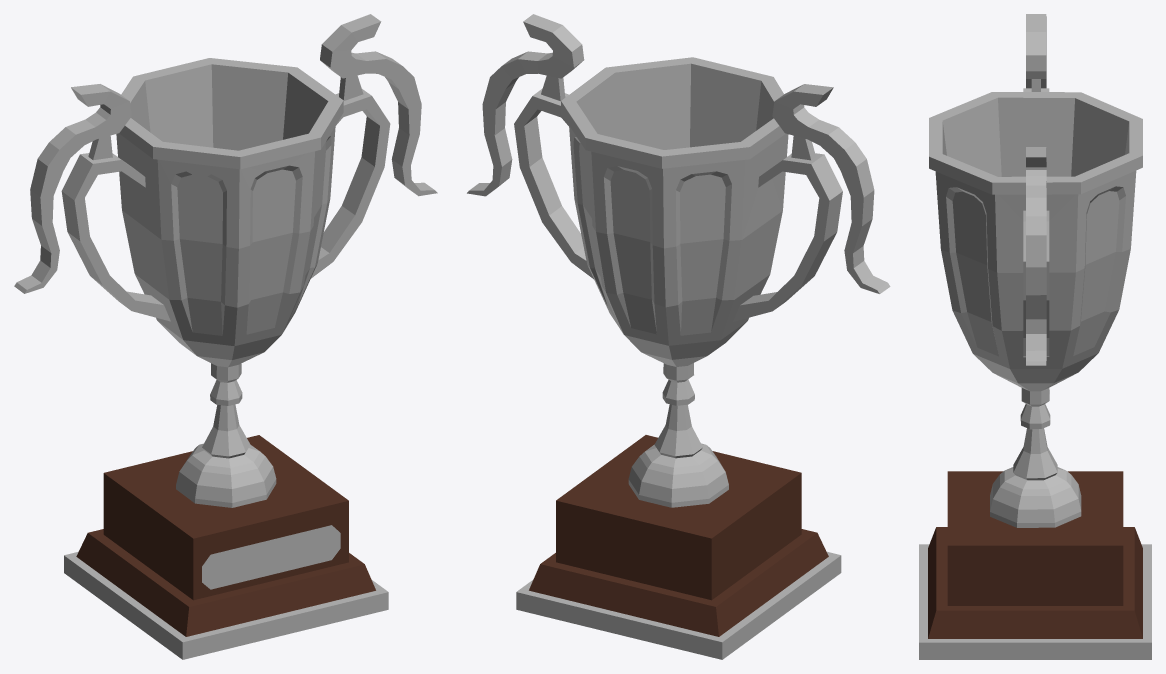
File: Int_Trophy01_4.fbx
The picture shows the model from 3 angles, left to right: view 1: azimuth 30°, elevation 25°; view 2: azimuth 150°, elevation 25°; view 3: azimuth 270°, elevation 25°; orthographic projection. The views are drawn at different scales.
Visible parts, largest first — view 1: Int_Trophy01_4; view 2: Int_Trophy01_4; view 3: Int_Trophy01_4.
Boxes of the visible parts, left/top/right/bottom form: Int_Trophy01_4: left=14, top=14, right=437, bottom=659; Int_Trophy01_4: left=467, top=14, right=890, bottom=659; Int_Trophy01_4: left=919, top=14, right=1151, bottom=659.
Size of what is drawn, in the model's own units: 44.7 by 22.27 by 55.44.
